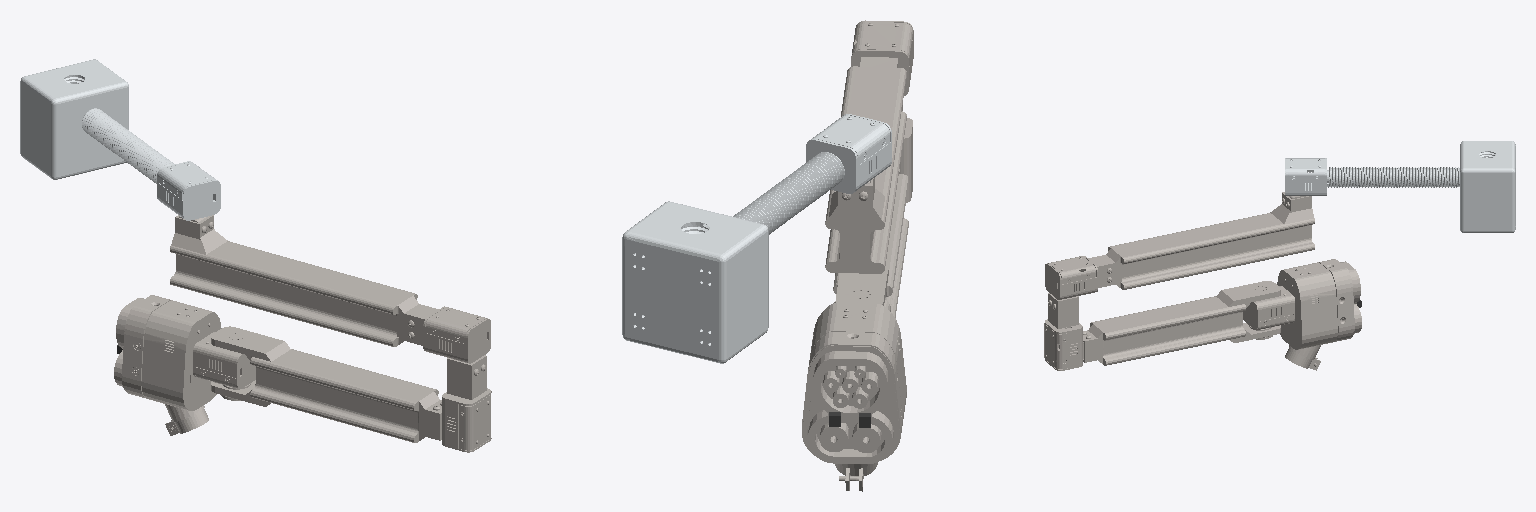
URDF robot description (jlr23):
<?xml version="1.0" encoding="utf-8"?>
<!-- This URDF was automatically created by SolidWorks to URDF Exporter! Originally created by [author] ([email redacted]) 
     Commit Version: 1.6.0-4-g7f85cfe  Build Version: 1.6.7995.38578
     For more information, please see http://wiki.ros.org/sw_urdf_exporter -->
<robot
  name="jlr23">

  <gazebo>
    <plugin filename="libgazebo_ros_control.so" name="gazebo_ros_control">
      <robotNamespace>/jlr23</robotNamespace>
      <robotSimType>gazebo_ros_control/DefaultRobotHWSim</robotSimType>
    </plugin>
  </gazebo>

  <!-- <xacro:include filename="$(find jlr23)/models/camera/model.sdf" /> -->

  <link
    name="base_link">
    <inertial>
      <origin
        xyz="-0.276235103486061 0.13987765838459 0.723966030427797"
        rpy="0 0 0" />
      <mass
        value="491.30303564012" />
      <inertia
        ixx="141.226771631241"
        ixy="-0.667901992896637"
        ixz="-0.720844336128032"
        iyy="170.264829374167"
        iyz="3.2923047777961"
        izz="51.5801583509923" />
    </inertial>
    <visual>
      <origin
        xyz="0 0 0"
        rpy="0 0 0" />
      <geometry>
        <mesh
          filename="package://jlr23/meshes/base_link.STL" />
      </geometry>
      <material
        name="">
        <color
          rgba="0.792156862745098 0.819607843137255 0.933333333333333 1" />
      </material>
    </visual>
    <collision>
      <origin
        xyz="0 0 0"
        rpy="0 0 0" />
      <geometry>
        <mesh
          filename="package://jlr23/meshes/base_link.STL" />
      </geometry>
    </collision>
  </link>
  <link
    name="link1">
    <inertial>
      <origin
        xyz="-0.0234702346892053 0.0523284636391684 -4.07765740435995E-06"
        rpy="0 0 0" />
      <mass
        value="2.26887356420331" />
      <inertia
        ixx="0.00332949768014992"
        ixy="-1.33460787180598E-05"
        ixz="-1.31036776944501E-09"
        iyy="0.00376744252140244"
        iyz="-2.94534619005552E-08"
        izz="0.00364032799329192" />
    </inertial>
    <visual>
      <origin
        xyz="0 0 0"
        rpy="0 0 0" />
      <geometry>
        <mesh
          filename="package://jlr23/meshes/link1.STL" />
      </geometry>
      <material
        name="">
        <color
          rgba="0.898039215686275 0.917647058823529 0.929411764705882 1" />
      </material>
    </visual>
    <collision>
      <origin
        xyz="0 0 0"
        rpy="0 0 0" />
      <geometry>
        <mesh
          filename="package://jlr23/meshes/link1.STL" />
      </geometry>
    </collision>
  </link>
  <joint
    name="prismatic"
    type="prismatic">
    <origin
      xyz="0 0 0.6639"
      rpy="1.5708 0 1.5708" />
    <parent
      link="base_link" />
    <child
      link="link1" />
    <axis
      xyz="0 1 0" />
    <limit
      lower="0"
      upper="0.71"
      effort="80.0"
      velocity="1" />
  </joint>
  <transmission name="prismatic_tran">
    <type>transmission_interface/SimpleTransmission</type>
    <joint name="prismatic">
      <hardwareInterface>hardware_interface/EffortJointInterface</hardwareInterface>
    </joint>
    <actuator name="prismatic_motor">
      <hardwareInterface>hardware_interface/EffortJointInterface</hardwareInterface>
      <mechanicalReduction>1</mechanicalReduction>
    </actuator>
  </transmission>

  <link
    name="link2">
    <inertial>
      <origin
        xyz="-0.00952573489970504 -0.0621548653419655 0.165888482719174"
        rpy="0 0 0" />
      <mass
        value="0.952159414502832" />
      <inertia
        ixx="0.00670399131077116"
        ixy="-6.25778082192579E-06"
        ixz="0.000363422770513685"
        iyy="0.00660759354726683"
        iyz="0.000109702511506716"
        izz="0.000387979484008933" />
    </inertial>
    <visual>
      <origin
        xyz="0 0 0"
        rpy="0 0 0" />
      <geometry>
        <mesh
          filename="package://jlr23/meshes/link2.STL" />
      </geometry>
      <material
        name="">
        <color
          rgba="0.776470588235294 0.756862745098039 0.737254901960784 1" />
      </material>
    </visual>
    <collision>
      <origin
        xyz="0 0 0"
        rpy="0 0 0" />
      <geometry>
        <mesh
          filename="package://jlr23/meshes/link2.STL" />
      </geometry>
    </collision>
  </link>
  <joint
    name="r1"
    type="revolute">
    <origin
      xyz="-0.26795 0.046 0"
      rpy="3.1416 -0.057288 3.1416" />
    <parent
      link="link1" />
    <child
      link="link2" />
    <axis
      xyz="0 -1 0" />
    <limit
      lower="1.9"
      upper="6.6"
      effort="1.2"
      velocity="1" />
  </joint>
  <transmission name="tran1">
    <type>transmission_interface/SimpleTransmission</type>
    <joint name="r1">
      <hardwareInterface>hardware_interface/EffortJointInterface</hardwareInterface>
    </joint>
    <actuator name="motor1">
      <hardwareInterface>hardware_interface/EffortJointInterface</hardwareInterface>
      <mechanicalReduction>1</mechanicalReduction>
    </actuator>
  </transmission>

  <link
    name="link3">
    <inertial>
      <origin
        xyz="7.67743407226185E-05 -0.0637848235215971 -0.00054897328058251"
        rpy="0 0 0" />
      <mass
        value="0.152174540214271" />
      <inertia
        ixx="5.67209216682091E-05"
        ixy="-8.9658649693289E-10"
        ixz="3.36534301601174E-08"
        iyy="3.68682661636993E-05"
        iyz="5.55240866258681E-07"
        izz="6.48360118144108E-05" />
    </inertial>
    <visual>
      <origin
        xyz="0 0 0"
        rpy="0 0 0" />
      <geometry>
        <mesh
          filename="package://jlr23/meshes/link3.STL" />
      </geometry>
      <material
        name="">
        <color
          rgba="0.776470588235294 0.756862745098039 0.737254901960784 1" />
      </material>
    </visual>
    <collision>
      <origin
        xyz="0 0 0"
        rpy="0 0 0" />
      <geometry>
        <mesh
          filename="package://jlr23/meshes/link3.STL" />
      </geometry>
    </collision>
  </link>
  <joint
    name="r2"
    type="revolute">
    <origin
      xyz="-0.020927 -0.082 0.3649"
      rpy="-3.1416 0.057288 -3.1416" />
    <parent
      link="link2" />
    <child
      link="link3" />
    <axis
      xyz="0 -1 0" />
    <limit
      lower="-31400"
      upper="31400"
      effort="1.2"
      velocity="1" />
  </joint>
  <transmission name="tran2">
    <type>transmission_interface/SimpleTransmission</type>
    <joint name="r2">
      <hardwareInterface>hardware_interface/EffortJointInterface</hardwareInterface>
    </joint>
    <actuator name="motor2">
      <hardwareInterface>hardware_interface/EffortJointInterface</hardwareInterface>
      <mechanicalReduction>1</mechanicalReduction>
    </actuator>
  </transmission>

  <link
    name="link4">
    <inertial>
      <origin
        xyz="-0.000241392367935522 -0.154636126684681 -2.06155221615933E-07"
        rpy="0 0 0" />
      <mass
        value="0.706883096655562" />
      <inertia
        ixx="0.00378010044246772"
        ixy="2.76448686177997E-05"
        ixz="-9.53585102281354E-08"
        iyy="0.00029860889627663"
        iyz="2.34892309179001E-08"
        izz="0.00389224550852458" />
    </inertial>
    <visual>
      <origin
        xyz="0 0 0"
        rpy="0 0 0" />
      <geometry>
        <mesh
          filename="package://jlr23/meshes/link4.STL" />
      </geometry>
      <material
        name="">
        <color
          rgba="0.776470588235294 0.756862745098039 0.737254901960784 1" />
      </material>
    </visual>
    <collision>
      <origin
        xyz="0 0 0"
        rpy="0 0 0" />
      <geometry>
        <mesh
          filename="package://jlr23/meshes/link4.STL" />
      </geometry>
    </collision>
  </link>
  <joint
    name="r3"
    type="revolute">
    <origin
      xyz="0 -0.09225 0.019"
      rpy="-1.5708 0 1.5699" />
    <parent
      link="link3" />
    <child
      link="link4" />
    <axis
      xyz="0 -1 0" />
    <limit
      lower="-31400"
      upper="31400"
      effort="1.2"
      velocity="1" />
  </joint>
  <transmission name="tran3">
    <type>transmission_interface/SimpleTransmission</type>
    <joint name="r3">
      <hardwareInterface>hardware_interface/EffortJointInterface</hardwareInterface>
    </joint>
    <actuator name="motor3">
      <hardwareInterface>hardware_interface/EffortJointInterface</hardwareInterface>
      <mechanicalReduction>1</mechanicalReduction>
    </actuator>
  </transmission>

  <link
    name="link5">
    <inertial>
      <origin
        xyz="0.0132264359298863 -0.0246084700377679 0.000105386524251461"
        rpy="0 0 0" />
      <mass
        value="0.11085597052734" />
      <inertia
        ixx="2.92160565952064E-05"
        ixy="5.96786821620956E-07"
        ixz="1.01394933547362E-08"
        iyy="5.38711653004163E-05"
        iyz="3.45985142174298E-08"
        izz="4.45769877356211E-05" />
    </inertial>
    <visual>
      <origin
        xyz="0 0 0"
        rpy="0 0 0" />
      <geometry>
        <mesh
          filename="package://jlr23/meshes/link5.STL" />
      </geometry>
      <material
        name="">
        <color
          rgba="0.776470588235294 0.756862745098039 0.737254901960784 1" />
      </material>
    </visual>
    <collision>
      <origin
        xyz="0 0 0"
        rpy="0 0 0" />
      <geometry>
        <mesh
          filename="package://jlr23/meshes/link5.STL" />
      </geometry>
    </collision>
  </link>
  <joint
    name="r4"
    type="revolute">
    <origin
      xyz="0.025 -0.29 2.1258E-05"
      rpy="0.00085032 0 -1.5708" />
    <parent
      link="link4" />
    <child
      link="link5" />
    <axis
      xyz="0 1 0" />
    <limit
      lower="-1.82"
      upper="1.82"
      effort="1.2"
      velocity="1" />
  </joint>
  <transmission name="tran4">
    <type>transmission_interface/SimpleTransmission</type>
    <joint name="r4">
      <hardwareInterface>hardware_interface/EffortJointInterface</hardwareInterface>
    </joint>
    <actuator name="motor4">
      <hardwareInterface>hardware_interface/EffortJointInterface</hardwareInterface>
      <mechanicalReduction>1</mechanicalReduction>
    </actuator>
  </transmission>

  <link
    name="link6">
    <inertial>
      <origin
        xyz="0.0170077137011535 0.046825459293444 -3.61694613029151E-05"
        rpy="0 0 0" />
      <mass
        value="0.450464199664897" />
      <inertia
        ixx="0.000401378755677723"
        ixy="2.16385781512959E-06"
        ixz="1.70188751918973E-07"
        iyy="0.000797535350991793"
        iyz="8.45193392641359E-08"
        izz="0.000652564128603054" />
    </inertial>
    <visual>
      <origin
        xyz="0 0 0"
        rpy="0 0 0" />
      <geometry>
        <mesh
          filename="package://jlr23/meshes/link6.STL" />
      </geometry>
      <material
        name="">
        <color
          rgba="0.776470588235294 0.756862745098039 0.737254901960784 1" />
      </material>
    </visual>
    <collision>
      <origin
        xyz="0 0 0"
        rpy="0 0 0" />
      <geometry>
        <mesh
          filename="package://jlr23/meshes/link6.STL" />
      </geometry>
    </collision>
  </link>
  <joint
    name="r5"
    type="revolute">
    <origin
      xyz="0.04425 -0.025 0"
      rpy="0 -0.00085032 -1.5708" />
    <parent
      link="link5" />
    <child
      link="link6" />
    <axis
      xyz="0 -1 0" />
    <limit
      lower="-31400"
      upper="31400"
      effort="1.2"
      velocity="1" />
  </joint>
  <transmission name="tran5">
    <type>transmission_interface/SimpleTransmission</type>
    <joint name="r5">
      <hardwareInterface>hardware_interface/EffortJointInterface</hardwareInterface>
    </joint>
    <actuator name="motor5">
      <hardwareInterface>hardware_interface/EffortJointInterface</hardwareInterface>
      <mechanicalReduction>1</mechanicalReduction>
    </actuator>
  </transmission>


  <link name="camera_link">
    <inertial>
      <mass value="0.000312342"/>
      <inertia ixx="2.59945e-07" ixy="0" ixz="0" iyy="2.1907e-07" iyz="0" izz="2.46955e-07"/>
      <origin rpy="0 -0 0" xyz="0 0 0"/>
    </inertial>
    <visual>
      <origin rpy="0 -0 0" xyz="0 0 0"/>
      <geometry>
        <box size="0.01 0.01 0.01"/>
      </geometry>
      <material name="Gazebo/Grey">
        <script>
          <uri>file://media/materials/scripts/gazebo.material</uri>
          <name>Gazebo/Grey</name>
        </script>
        <shader type="pixel"/>
      </material>
      <transparency>0</transparency>
      <cast_shadows>1</cast_shadows>
    </visual>
  </link>
  <joint name="link_0_JOINT_0" type="fixed">
    <parent link="camera_link"/>
    <child link="camera_link1"/>
    <origin rpy="0 -0 0" xyz="0 0 0"/>
  </joint>
  <link name="camera_link1">
    <inertial>
      <mass value="0.000312342"/>
      <inertia ixx="2.59945e-07" ixy="0" ixz="0" iyy="2.1907e-07" iyz="0" izz="2.46955e-07"/>
      <origin rpy="0 -0 0" xyz="0 0.025 0"/>
    </inertial>
    <origin rpy="0 -0 0" xyz="-0 0.025 0"/>
    <visual>
      <origin rpy="0 -0 0" xyz="0 0.025 0"/>
      <geometry>
        <box size="0.01 0.01 0.01"/>
      </geometry>
      <material name="Gazebo/Grey">
        <script>
          <uri>file://media/materials/scripts/gazebo.material</uri>
          <name>Gazebo/Grey</name>
        </script>
        <shader type="pixel"/>
      </material>
      <transparency>0</transparency>
      <cast_shadows>1</cast_shadows>
    </visual>
  </link>
  <kinematic>0</kinematic>
  <allow_auto_disable>1</allow_auto_disable>
  <!-- <material name="Gazebo/Grey"> -->
  <!--   <color rgba=".3 .3 .3 1.0"/> -->
  <!-- </material> -->
  <material name="Gazebo/Grey">
    <color rgba=".3 .3 .3 1.0"/>
  </material>

<gazebo reference='camera_link'>
  <sensor name='camera' type='camera'>
        <camera name="head">
            <horizontal_fov>1.3962634</horizontal_fov>
            <image>
                <width>800</width>
                <height>800</height>
                <format>R8G8B8</format>
            </image>
            <clip>
                <near>0.02</near>
                <far>300</far>
            </clip>
        </camera>
        <always_on>1</always_on>
        <update_rate>30</update_rate>
        <visualize>1</visualize>
        <plugin name="camera_controller" filename="libgazebo_ros_camera.so">
            <alwaysOn>true</alwaysOn>
            <updateRate>0.0</updateRate>
            <cameraName>jlr/camera</cameraName>
            <imageTopicName>image_raw</imageTopicName>
            <cameraInfoTopicName>camera_info</cameraInfoTopicName>
            <frameName>camera_link</frameName>
            <hackBaseline>0.07</hackBaseline>
            <distortionK1>0.0</distortionK1>
            <distortionK2>0.0</distortionK2>
            <distortionK3>0.0</distortionK3>
            <distortionT1>0.0</distortionT1>
            <distortionT2>0.0</distortionT2>
        </plugin>
    </sensor>
</gazebo>

<gazebo reference='camera_link1'>
  <sensor name='camera1' type='camera'>
        <camera name="head1">
            <horizontal_fov>1.3962634</horizontal_fov>
            <image>
                <width>800</width>
                <height>800</height>
                <format>R8G8B8</format>
            </image>
            <clip>
                <near>0.02</near>
                <far>300</far>
            </clip>
        </camera>
        <always_on>1</always_on>
        <update_rate>30</update_rate>
        <visualize>1</visualize>
        <plugin name="camera_controller" filename="libgazebo_ros_camera.so">
            <alwaysOn>true</alwaysOn>
            <updateRate>0.0</updateRate>
            <cameraName>jlr/camera1</cameraName>
            <imageTopicName>image_raw</imageTopicName>
            <cameraInfoTopicName>camera_info</cameraInfoTopicName>
            <frameName>camera_link1</frameName>
            <hackBaseline>0.07</hackBaseline>
            <distortionK1>0.0</distortionK1>
            <distortionK2>0.0</distortionK2>
            <distortionK3>0.0</distortionK3>
            <distortionT1>0.0</distortionT1>
            <distortionT2>0.0</distortionT2>
        </plugin>
    </sensor>
</gazebo>

  <joint
    name="camera_joint"
    type="fixed">
    <origin
      xyz="0.015 0.1 -0.0125"
      rpy="1.5708 0 1.5708" />
    <parent
      link="link6" />
    <child
      link="camera_link" />
    <axis
      xyz="0 1 0" />
    <limit
      lower="0"
      upper="0.71"
      effort="1.2"
      velocity="1"/>
</joint>

</robot>

--- What the picture shows (computed from the rendered views, not written in the file) ---
The picture shows the robot from 3 angles, left to right: view 1: azimuth 30°, elevation 25°; view 2: azimuth 150°, elevation 25°; view 3: azimuth 270°, elevation 25°; orthographic projection.
Robot: jlr23 — 9 links, 8 joints (5 revolute, 1 prismatic, 2 fixed); root link base_link; default pose: all joints at 0 but 1 set to mid-range because 0 is outside their limits (r1 = 4.25).
Links seen in each view (by area): view 1: link2, link1, link4, link6, link3, link5; view 2: link1, link6, link2, link4, link3; view 3: link2, link1, link4, link6, link3, link5.
Link boxes in pixels (<box>): link2: <box>170,215,490,363</box>; link1: <box>20,59,220,220</box>; link4: <box>211,326,441,442</box>; link6: <box>114,295,221,435</box>; link3: <box>442,355,491,452</box>; link5: <box>193,332,255,388</box>; link1: <box>622,114,891,363</box>; link6: <box>802,303,906,491</box>; link2: <box>825,20,913,273</box>; link4: <box>833,169,908,317</box>; link3: <box>900,105,912,202</box>; link2: <box>1045,192,1314,299</box>; link1: <box>1285,141,1515,232</box>; link4: <box>1083,281,1280,365</box>; link6: <box>1277,259,1361,370</box>; link3: <box>1044,293,1082,370</box>; link5: <box>1243,286,1294,329</box>.
Size in the robot's own frame: 0.262 by 0.6606 by 0.3372 metres.
6 mesh visuals loaded from 7 distinct referenced files (6 binary STL); not drawn: 1 (reference not matched to a file when rendering).
